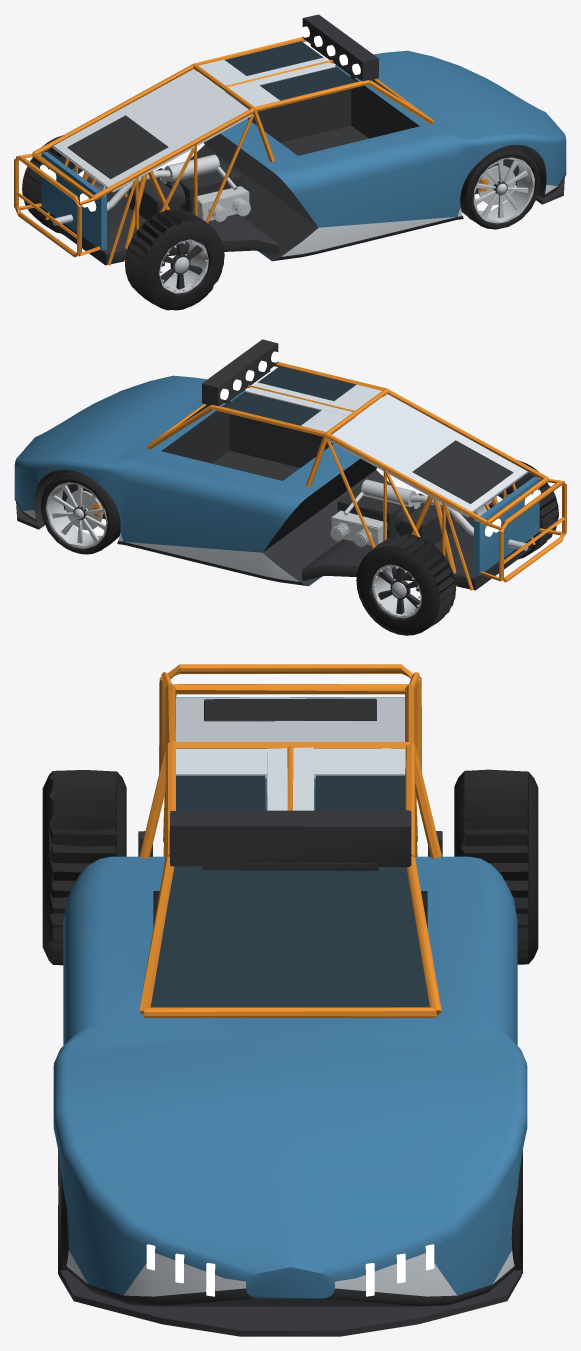
The model's file is knifeedge_blueprint_LOD2.glb.
3 renders of one model, top to bottom at view 1: azimuth 30°, elevation 25°; view 2: azimuth 150°, elevation 25°; view 3: azimuth 270°, elevation 25°, orthographic. The views are drawn at different scales.
Visible parts, largest first — view 1: Body_Shell.001, Body_Deck.001, Wheel_Truck_Tire_-1.001, Detail_Iron, Body_CageRear.001, Body_Floor.001, Body_TailPlate.001, Body_CageRoof.001, Detail_Secondary, Wheel_Coupe_Tire_-1.001, Body_CageBumper.001, Glass_Roof_+1.001 (+12 smaller); view 2: Body_Shell.001, Body_Deck.001, Wheel_Truck_Tire_+1.001, Detail_Iron, Body_CageRear.001, Body_Floor.001, Body_TailPlate.001, Body_CageRoof.001, Detail_Secondary, Wheel_Coupe_Tire_+1.001, Body_CageBumper.001, Glass_Roof_-1.001 (+12 smaller); view 3: Body_Shell.001, Glass_Windshield.001, Detail_Iron, Body_CageRoof.001, Wheel_Truck_Tire_+1.001, Wheel_Truck_Tire_-1.001, Body_Splitter.001, Detail_Secondary, Body_Deck.001, Body_CageRear.001, Body_CageBumper.001, Glass_Roof_+1.001 (+4 smaller).
Boxes of the visible parts, left/top/right/bottom form: Body_Shell.001: left=190, top=50, right=566, bottom=261; Body_Deck.001: left=52, top=69, right=252, bottom=192; Wheel_Truck_Tire_-1.001: left=125, top=209, right=224, bottom=310; Detail_Iron: left=67, top=14, right=378, bottom=179; Body_CageRear.001: left=32, top=64, right=255, bottom=265; Body_Floor.001: left=49, top=168, right=279, bottom=265; Body_TailPlate.001: left=41, top=152, right=106, bottom=250; Body_CageRoof.001: left=193, top=37, right=433, bottom=161; Detail_Secondary: left=198, top=57, right=335, bottom=106; Wheel_Coupe_Tire_-1.001: left=460, top=145, right=539, bottom=229; Body_CageBumper.001: left=14, top=153, right=100, bottom=257; Glass_Roof_+1.001: left=225, top=41, right=323, bottom=75; Body_Shell.001: left=14, top=375, right=390, bottom=586; Body_Deck.001: left=328, top=394, right=528, bottom=517; Wheel_Truck_Tire_+1.001: left=356, top=534, right=456, bottom=635; Detail_Iron: left=202, top=339, right=513, bottom=503; Body_CageRear.001: left=325, top=388, right=548, bottom=590; Body_Floor.001: left=301, top=493, right=531, bottom=590; Body_TailPlate.001: left=474, top=476, right=539, bottom=575; Body_CageRoof.001: left=147, top=362, right=387, bottom=487; Detail_Secondary: left=245, top=382, right=381, bottom=431; Wheel_Coupe_Tire_+1.001: left=41, top=470, right=120, bottom=554; Body_CageBumper.001: left=480, top=478, right=566, bottom=582; Glass_Roof_-1.001: left=258, top=366, right=355, bottom=400; Body_Shell.001: left=53, top=856, right=527, bottom=1306; Glass_Windshield.001: left=150, top=866, right=429, bottom=1007; Detail_Iron: left=169, top=698, right=411, bottom=870; Body_CageRoof.001: left=139, top=741, right=441, bottom=1017; Wheel_Truck_Tire_+1.001: left=454, top=769, right=538, bottom=964; Wheel_Truck_Tire_-1.001: left=42, top=770, right=126, bottom=965; Body_Splitter.001: left=59, top=1270, right=521, bottom=1336; Detail_Secondary: left=176, top=747, right=405, bottom=810; Body_Deck.001: left=176, top=697, right=404, bottom=741; Body_CageRear.001: left=163, top=684, right=417, bottom=856; Body_CageBumper.001: left=159, top=664, right=421, bottom=773; Glass_Roof_+1.001: left=316, top=775, right=405, bottom=810.
Size of the model in its own units: 5.22 by 1.76 by 2.24.
